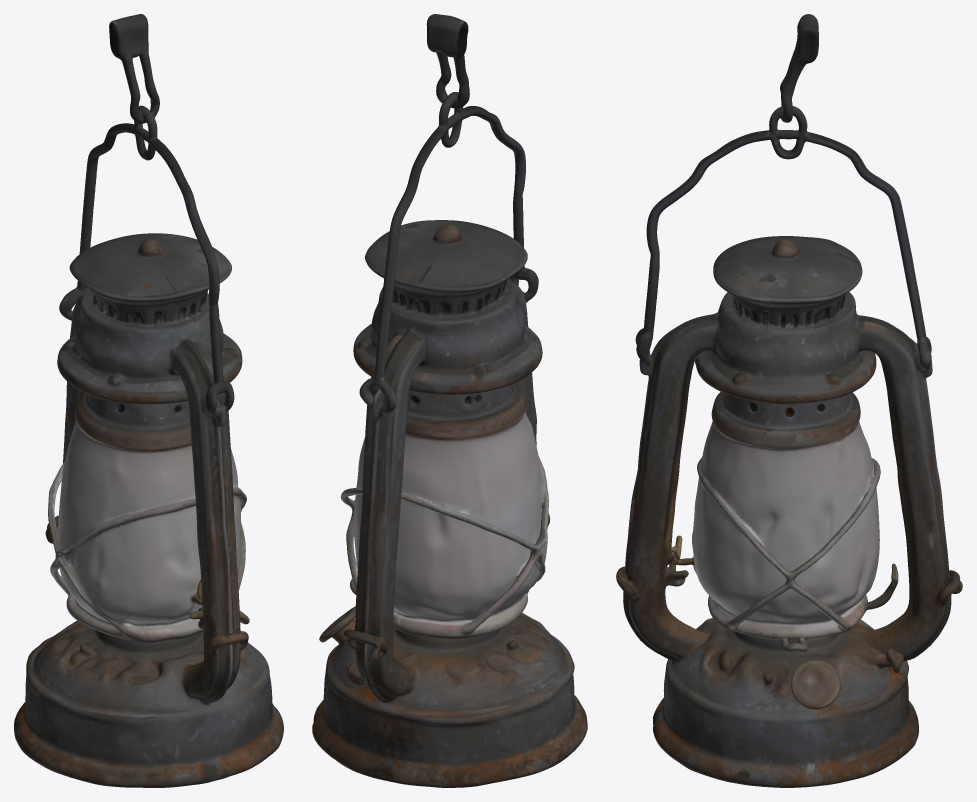
File: فانوس_معلق-2.glb
The picture shows the model from 3 angles, left to right: view 1: azimuth 30°, elevation 25°; view 2: azimuth 150°, elevation 25°; view 3: azimuth 270°, elevation 25°; orthographic projection. The views are drawn at different scales.
Visible parts, largest first — view 1: tripo_node_6c18fd08-7d95-40b1-8fca-e11d042ad2df; view 2: tripo_node_6c18fd08-7d95-40b1-8fca-e11d042ad2df; view 3: tripo_node_6c18fd08-7d95-40b1-8fca-e11d042ad2df.
Part boxes in pixels (box(x1,y1,x2,y2)): tripo_node_6c18fd08-7d95-40b1-8fca-e11d042ad2df: box(14, 14, 283, 787); tripo_node_6c18fd08-7d95-40b1-8fca-e11d042ad2df: box(312, 14, 587, 787); tripo_node_6c18fd08-7d95-40b1-8fca-e11d042ad2df: box(616, 14, 962, 787).
Bounding box in the file's own units: 0.3433 × 1 × 0.4435.
Materials: 1 (1 with a texture image).
